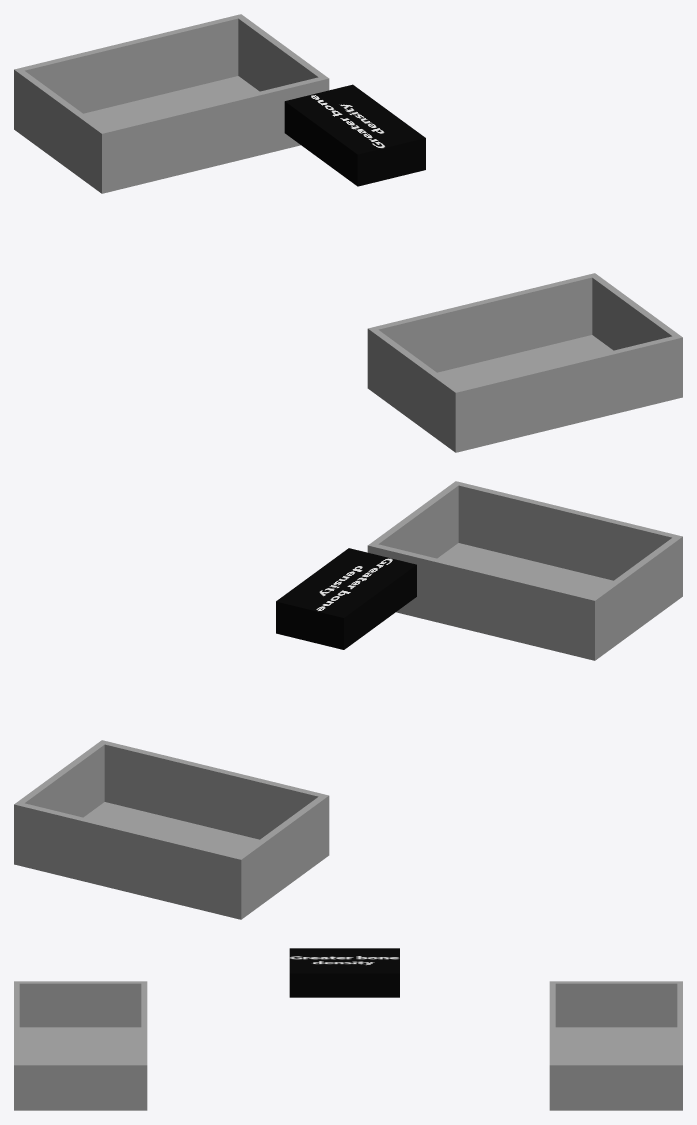
File: level 4.fbx
The picture shows the model from 3 angles, top to bottom: view 1: azimuth 30°, elevation 25°; view 2: azimuth 150°, elevation 25°; view 3: azimuth 270°, elevation 25°; orthographic projection. The views are drawn at different scales.
Visible parts, largest first — view 1: Scifibox, Scifibox1, pCube16; view 2: Scifibox1, Scifibox, pCube16; view 3: Scifibox, Scifibox1, pCube16.
Part boxes in pixels (x1,y1,x2,y2): Scifibox: (367,273,682,452); Scifibox1: (14,14,329,193); pCube16: (284,84,425,186); Scifibox1: (14,740,329,919); Scifibox: (367,481,682,660); pCube16: (276,548,416,649); Scifibox: (14,981,147,1110); Scifibox1: (549,981,682,1110); pCube16: (289,948,399,997).
Bounding box in the file's own units: 54.62 × 33.2 × 184.
3 materials, 2 textured.
